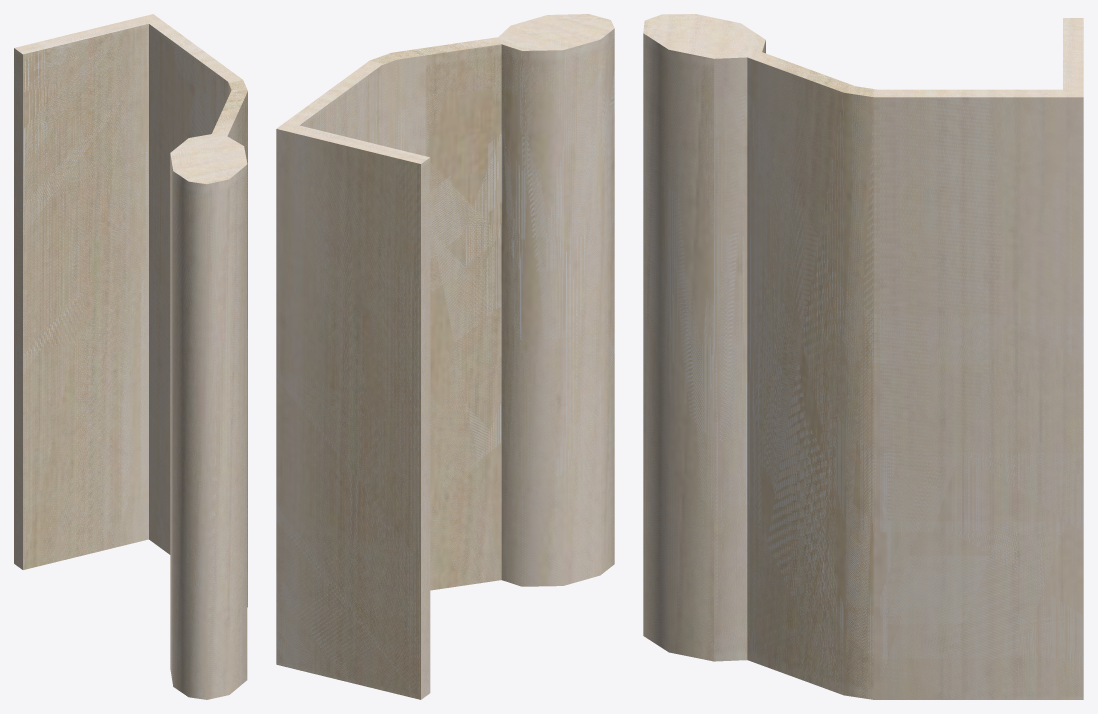
Rendered from original-35.obj.
3 views of the same model, side by side, from view 1: azimuth 30°, elevation 25°; view 2: azimuth 150°, elevation 25°; view 3: azimuth 270°, elevation 25° (orthographic). The views are drawn at different scales.
Parts seen in each view (by area): view 1: _3043_RB_31_1/_3043_RB_31/Group1/mesh23/mesh23-geometry#mesh23-g; view 2: _3043_RB_31_1/_3043_RB_31/Group1/mesh23/mesh23-geometry#mesh23-g; view 3: _3043_RB_31_1/_3043_RB_31/Group1/mesh23/mesh23-geometry#mesh23-g.
Boxes of the visible parts, box(x1,y1,x2,y2) form: _3043_RB_31_1/_3043_RB_31/Group1/mesh23/mesh23-geometry#mesh23-g: box(14, 14, 247, 699); _3043_RB_31_1/_3043_RB_31/Group1/mesh23/mesh23-geometry#mesh23-g: box(276, 14, 614, 699); _3043_RB_31_1/_3043_RB_31/Group1/mesh23/mesh23-geometry#mesh23-g: box(643, 14, 1083, 699).
Bounding box in the file's own units: 0.0194 × 0.0653 × 0.0432.
